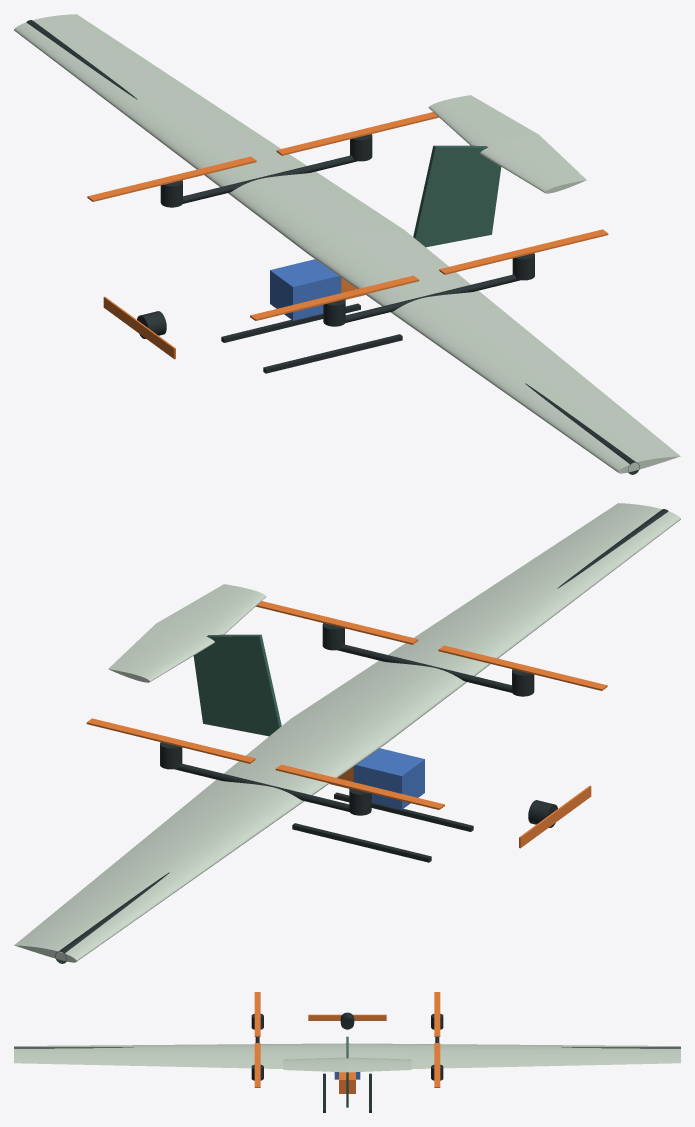
The model's file is 10-internal.glb.
The picture shows the model from 3 angles, top to bottom: view 1: azimuth 30°, elevation 25°; view 2: azimuth 150°, elevation 25°; view 3: azimuth 270°, elevation 25°; orthographic projection. The views are drawn at different scales.
Visible parts, largest first — view 1: wing-1, wing1, fin, tail-1, tail1, payload, prop_-1_700.0, prop_1_230.0, prop_-1_230.0, prop_1_700.0, wing_spar, boom-1 (+4 smaller); view 2: wing1, wing-1, fin, tail1, tail-1, payload, prop_1_700.0, prop_-1_230.0, prop_1_230.0, prop_-1_700.0, wing_spar, boom1 (+4 smaller); view 3: wing-1, wing1, tail-1, tail1, cruise_prop, wing_spar, battery, prop_-1_230.0, prop_-1_700.0, prop_1_230.0, prop_1_700.0, cruise_motor.
Boxes of the visible parts, x1,y1,x2,y2 form: wing-1: (307, 229, 680, 473); wing1: (14, 14, 403, 253); fin: (413, 145, 501, 247); tail-1: (480, 134, 586, 193); tail1: (428, 95, 538, 146); payload: (270, 259, 341, 320); prop_-1_700.0: (439, 229, 608, 274); prop_1_230.0: (87, 156, 256, 201); prop_-1_230.0: (250, 275, 419, 320); prop_1_700.0: (276, 112, 438, 155); wing_spar: (26, 20, 639, 474); boom-1: (345, 274, 519, 322); wing1: (14, 718, 387, 962); wing-1: (291, 503, 680, 742); fin: (193, 634, 281, 736); tail1: (108, 623, 214, 682); tail-1: (156, 584, 266, 635); payload: (353, 748, 424, 809); prop_1_700.0: (86, 718, 255, 763); prop_-1_230.0: (438, 645, 607, 690); prop_1_230.0: (275, 764, 444, 809); prop_-1_700.0: (256, 601, 418, 644); wing_spar: (55, 509, 668, 963); boom1: (175, 763, 349, 811); wing-1: (14, 1043, 346, 1068); wing1: (348, 1043, 680, 1068); tail-1: (283, 1057, 347, 1072); tail1: (347, 1057, 411, 1072); cruise_prop: (308, 1014, 386, 1020); wing_spar: (14, 1047, 680, 1048); battery: (339, 1072, 355, 1093); prop_-1_230.0: (254, 992, 260, 1036); prop_-1_700.0: (254, 1043, 260, 1087); prop_1_230.0: (434, 992, 440, 1036); prop_1_700.0: (434, 1043, 440, 1087); cruise_motor: (340, 1012, 354, 1029).
Size of the model in its own units: 994 by 390 by 2600.
